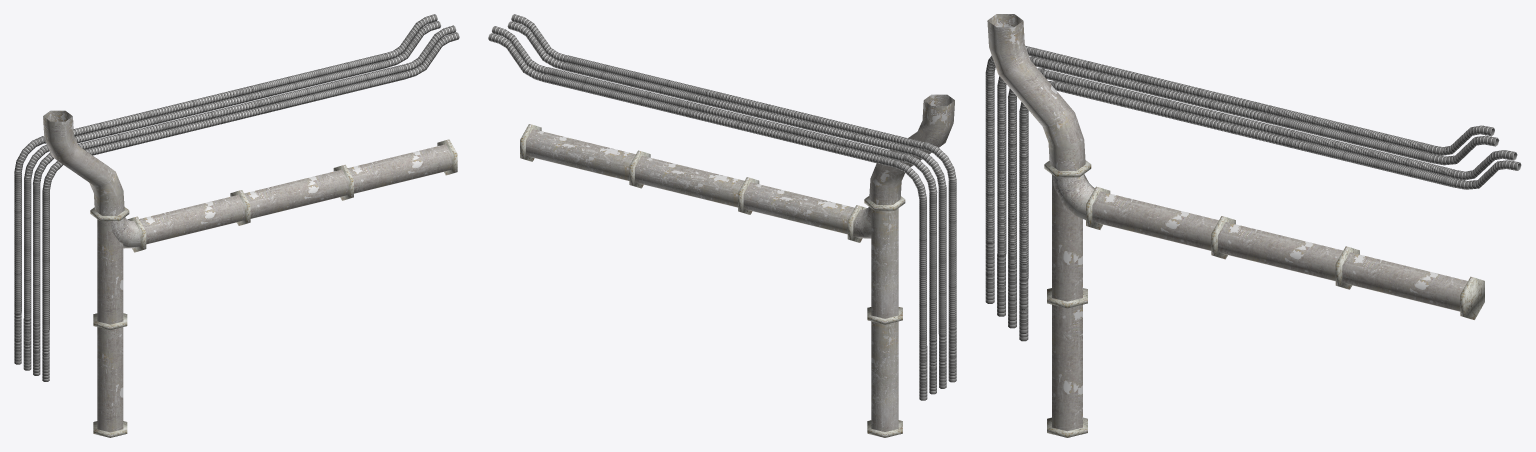
Rendered from WallScope4.obj.
3 renders of one model, left to right at view 1: azimuth 30°, elevation 25°; view 2: azimuth 150°, elevation 25°; view 3: azimuth 330°, elevation 25°, orthographic. The views are drawn at different scales.
Visible parts, largest first — view 1: PipelSet wall_4_ polySurface641 PipeSet1, group7 MetalPipes polySurface677, polySurface687 group7 MetalPipes, group7 MetalPipes polySurface686, group7 MetalPipes polySurface685, group7 MetalPipes polySurface664, ribbedPipes2 PipelSet wall_4_ pCylinder5, ribbedPipes2 PipelSet wall_4_ pCylinder6, PipelSet wall_4_ ribbedPipes pCylinder6, PipelSet wall_4_ ribbedPipes pCylinder5, ribbedPipes2 PipelSet wall_4_ pCylinder7, PipelSet wall_4_ ribbedPipes pCylinder7 (+11 smaller); view 2: group7 MetalPipes polySurface677, group7 MetalPipes polySurface686, group7 MetalPipes polySurface685, polySurface687 group7 MetalPipes, group7 MetalPipes polySurface664, PipelSet wall_4_ polySurface641 PipeSet1, ribbedPipes2 PipelSet wall_4_ pCylinder5, PipelSet wall_4_ ribbedPipes pCylinder5, ribbedPipes2 PipelSet wall_4_ pCylinder6, PipelSet wall_4_ ribbedPipes pCylinder6, PipelSet wall_4_ ribbedPipes pCylinder9, PipelSet wall_4_ ribbedPipes pCylinder10 (+11 smaller); view 3: PipelSet wall_4_ polySurface641 PipeSet1, group7 MetalPipes polySurface686, group7 MetalPipes polySurface677, group7 MetalPipes polySurface685, polySurface687 group7 MetalPipes, group7 MetalPipes polySurface664, ribbedPipes2 PipelSet wall_4_ pCylinder5, ribbedPipes2 PipelSet wall_4_ pCylinder6, PipelSet wall_4_ ribbedPipes pCylinder6, PipelSet wall_4_ ribbedPipes pCylinder5, ribbedPipes2 PipelSet wall_4_ pCylinder9, PipelSet wall_4_ ribbedPipes pCylinder9 (+11 smaller).
Part boxes in pixels (left/top/right/bottom): PipelSet wall_4_ polySurface641 PipeSet1: left=43, top=110, right=129, bottom=220; group7 MetalPipes polySurface677: left=139, top=190, right=250, bottom=244; polySurface687 group7 MetalPipes: left=93, top=327, right=127, bottom=437; group7 MetalPipes polySurface686: left=347, top=139, right=457, bottom=193; group7 MetalPipes polySurface685: left=244, top=164, right=353, bottom=218; group7 MetalPipes polySurface664: left=93, top=219, right=127, bottom=329; ribbedPipes2 PipelSet wall_4_ pCylinder5: left=78, top=97, right=271, bottom=149; ribbedPipes2 PipelSet wall_4_ pCylinder6: left=85, top=102, right=281, bottom=155; PipelSet wall_4_ ribbedPipes pCylinder6: left=75, top=91, right=262, bottom=143; PipelSet wall_4_ ribbedPipes pCylinder5: left=44, top=86, right=253, bottom=143; ribbedPipes2 PipelSet wall_4_ pCylinder7: left=269, top=64, right=405, bottom=104; PipelSet wall_4_ ribbedPipes pCylinder7: left=251, top=53, right=386, bottom=92; group7 MetalPipes polySurface677: left=738, top=177, right=854, bottom=234; group7 MetalPipes polySurface686: left=520, top=124, right=635, bottom=180; group7 MetalPipes polySurface685: left=629, top=150, right=744, bottom=207; polySurface687 group7 MetalPipes: left=867, top=321, right=902, bottom=437; group7 MetalPipes polySurface664: left=867, top=208, right=902, bottom=324; PipelSet wall_4_ polySurface641 PipeSet1: left=864, top=94, right=954, bottom=210; ribbedPipes2 PipelSet wall_4_ pCylinder5: left=686, top=101, right=905, bottom=161; PipelSet wall_4_ ribbedPipes pCylinder5: left=705, top=89, right=925, bottom=150; ribbedPipes2 PipelSet wall_4_ pCylinder6: left=676, top=107, right=896, bottom=167; PipelSet wall_4_ ribbedPipes pCylinder6: left=695, top=95, right=915, bottom=155; PipelSet wall_4_ ribbedPipes pCylinder9: left=938, top=187, right=946, bottom=335; PipelSet wall_4_ ribbedPipes pCylinder10: left=948, top=181, right=956, bottom=328; PipelSet wall_4_ polySurface641 PipeSet1: left=987, top=14, right=1091, bottom=177; group7 MetalPipes polySurface686: left=1342, top=252, right=1484, bottom=319; group7 MetalPipes polySurface677: left=1092, top=191, right=1235, bottom=259; group7 MetalPipes polySurface685: left=1218, top=222, right=1359, bottom=289; polySurface687 group7 MetalPipes: left=1047, top=304, right=1087, bottom=437; group7 MetalPipes polySurface664: left=1047, top=176, right=1087, bottom=308; ribbedPipes2 PipelSet wall_4_ pCylinder5: left=1041, top=69, right=1293, bottom=138; ribbedPipes2 PipelSet wall_4_ pCylinder6: left=1053, top=81, right=1305, bottom=150; PipelSet wall_4_ ribbedPipes pCylinder6: left=1031, top=57, right=1282, bottom=126; PipelSet wall_4_ ribbedPipes pCylinder5: left=1025, top=45, right=1271, bottom=114; ribbedPipes2 PipelSet wall_4_ pCylinder9: left=1019, top=111, right=1028, bottom=280; PipelSet wall_4_ ribbedPipes pCylinder9: left=997, top=86, right=1006, bottom=255.
Bounding box in the file's own units: 17.06 × 12 × 1.69.
Materials: 1 (1 with a texture image).
